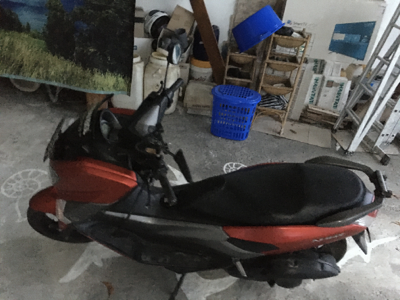moto: (29, 71, 391, 300)
